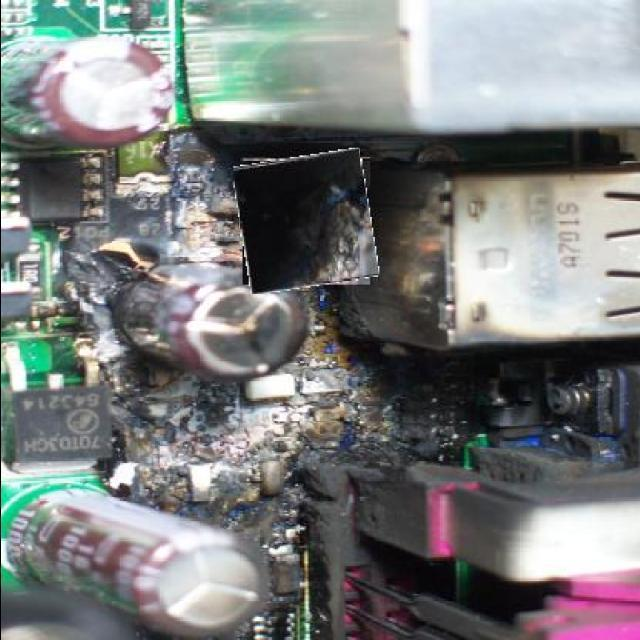Burn: (235, 152, 374, 290)
